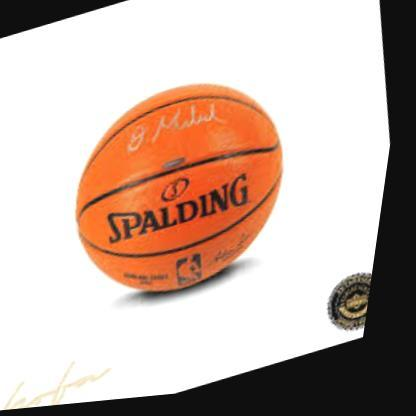basketball: (50, 60, 320, 323)
